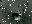person: (14, 11, 22, 20)
